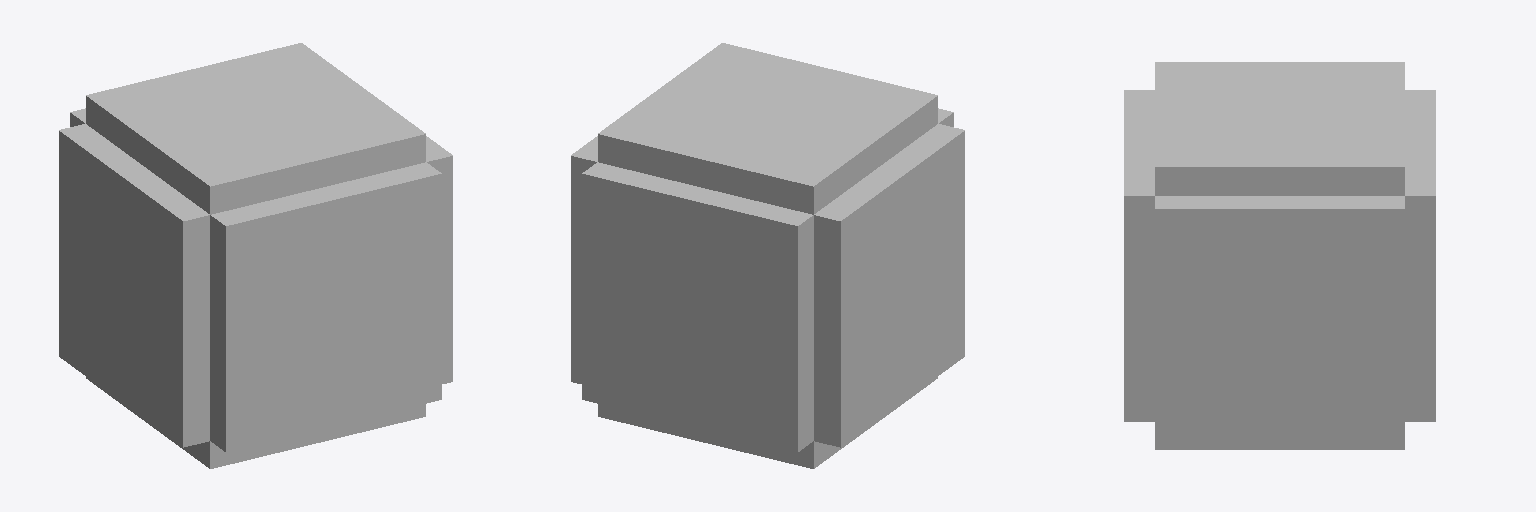
The model's file is Tile.obj.
3 views of the same model, side by side, from view 1: azimuth 30°, elevation 25°; view 2: azimuth 150°, elevation 25°; view 3: azimuth 270°, elevation 25° (orthographic).
Visible parts, largest first — view 1: Tile; view 2: Tile; view 3: Tile.
Boxes of the visible parts, box(x1,y1,x2,y2) form: Tile: box(59, 43, 452, 468); Tile: box(571, 43, 964, 468); Tile: box(1124, 62, 1435, 449).
Size of the model in its own units: 20 by 20 by 20.